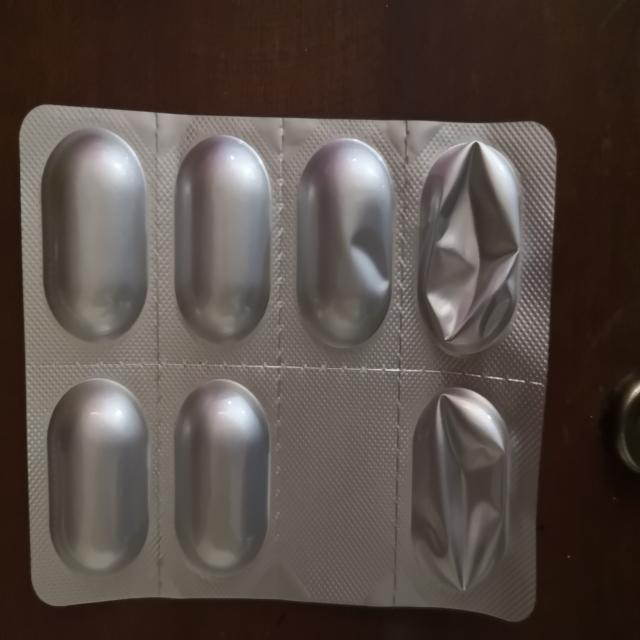Empty: (414, 142, 529, 363), (406, 384, 516, 599)
Pill: (34, 124, 155, 348), (289, 133, 400, 352), (165, 133, 275, 350), (36, 376, 154, 578), (169, 373, 275, 583)
